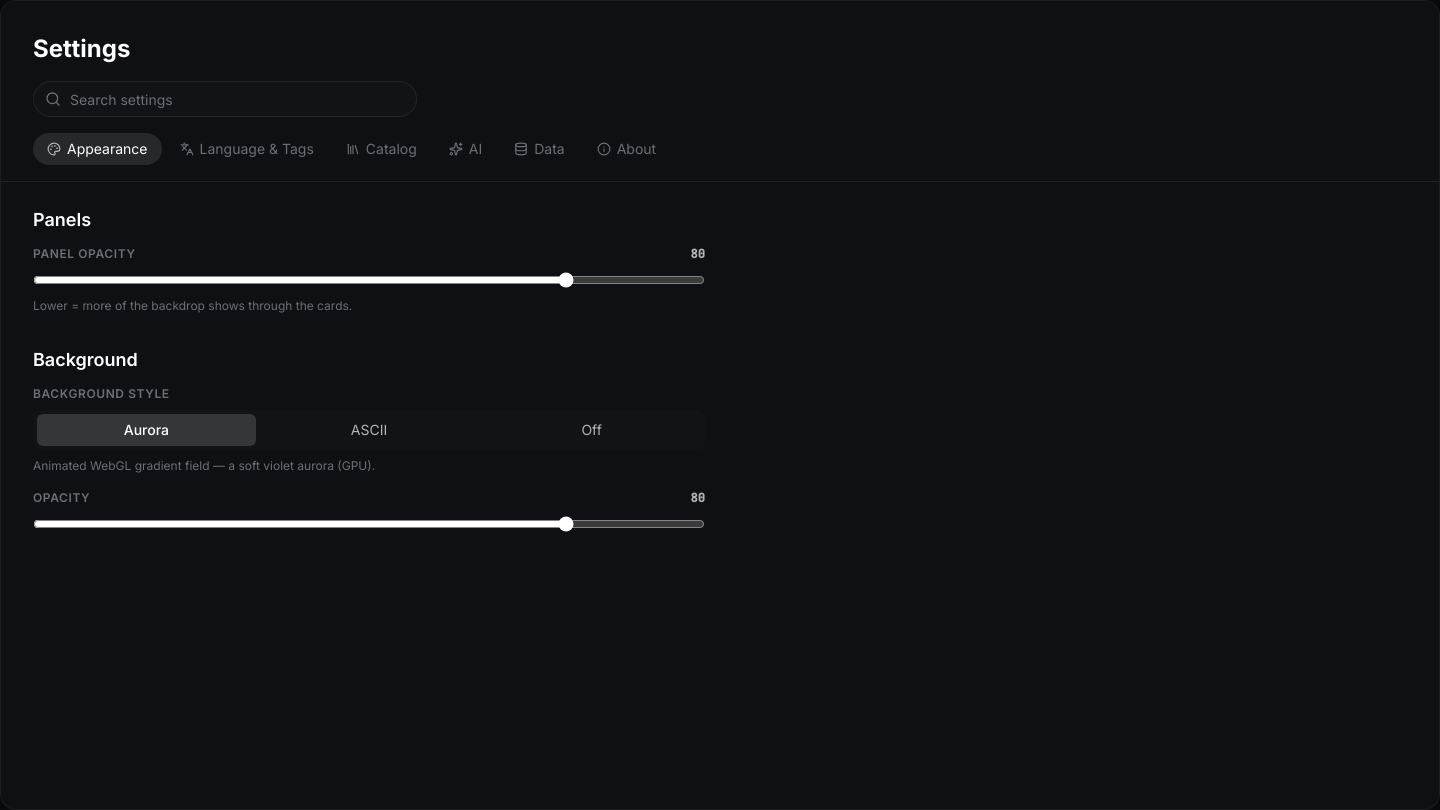
SettingsPanel › Producers section › renders each producer as a chip
What coordinates should you click on to do the following:
click the tab "Catalog"
I would click on:
 (381, 149)
Its box is [332,133,431,165].
(page scrolled)
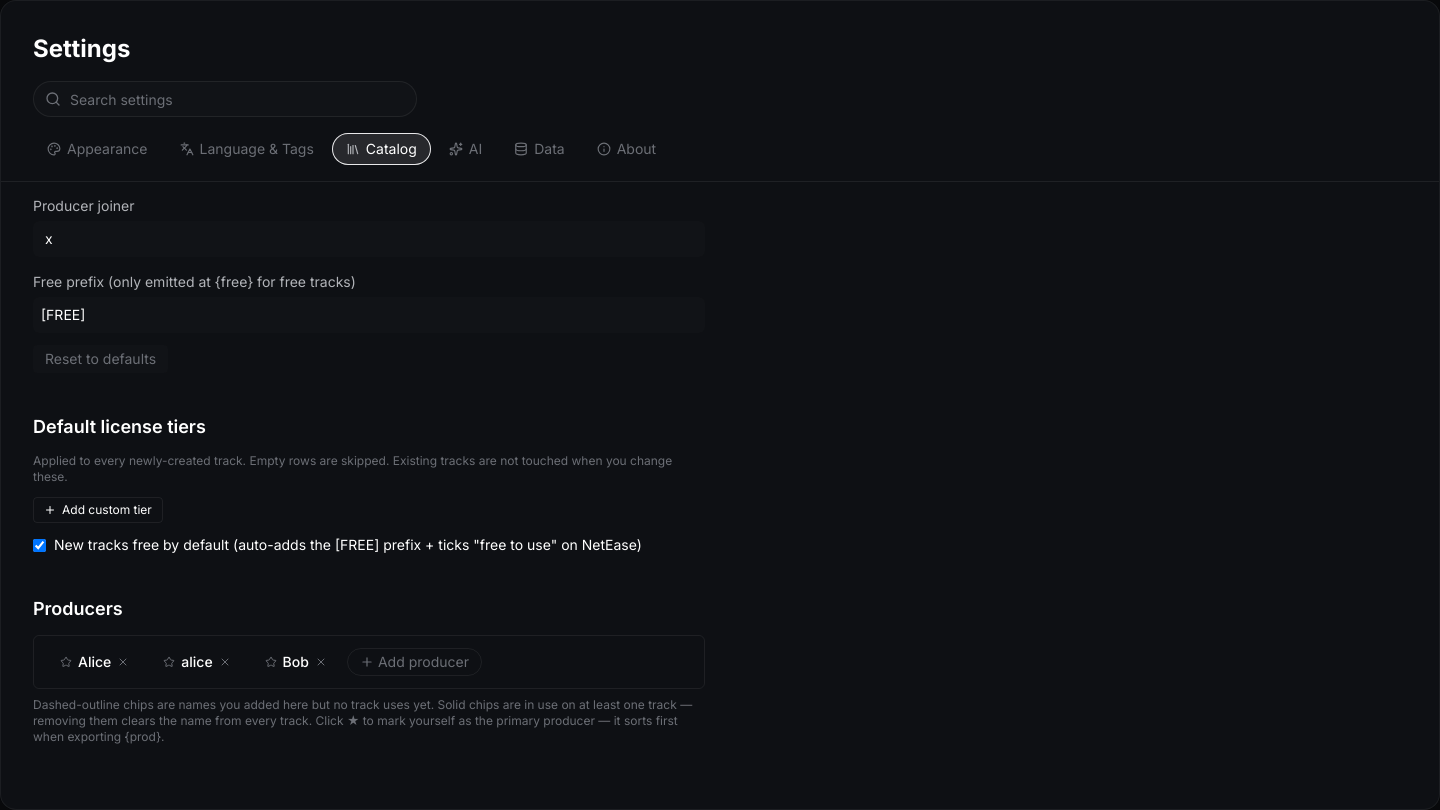
Result: the number of elements with test id "producer-chip" is 3 at [58,653,131,670]; [161,653,233,670]; [263,653,329,670]
Result: the text "Alice" is shown at [58,653,131,670]
Result: the text "alice" is shown at [161,653,233,670]
